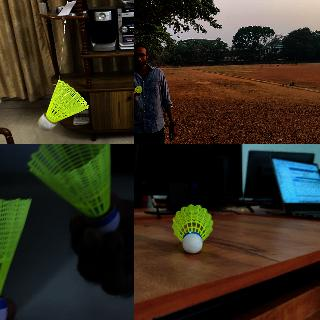shuttlecock: (27, 144, 120, 234), (0, 199, 31, 319), (38, 80, 88, 130), (171, 203, 213, 254), (134, 86, 142, 92)
